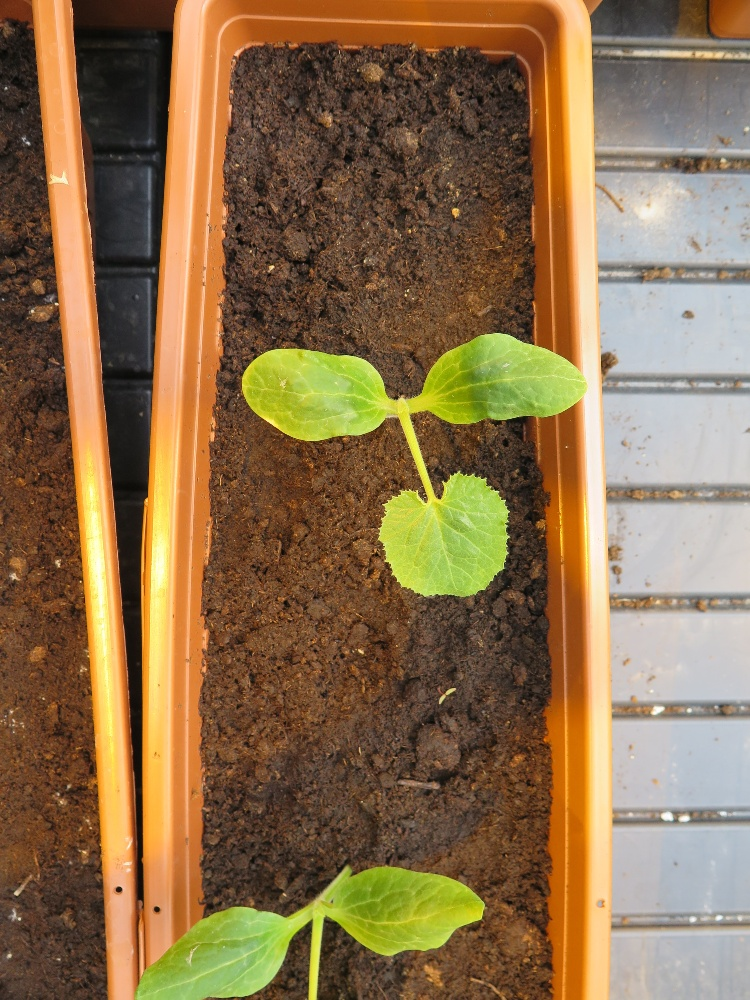crop: (234, 329, 590, 609), (122, 848, 500, 1000)
weed: (437, 685, 458, 708)
